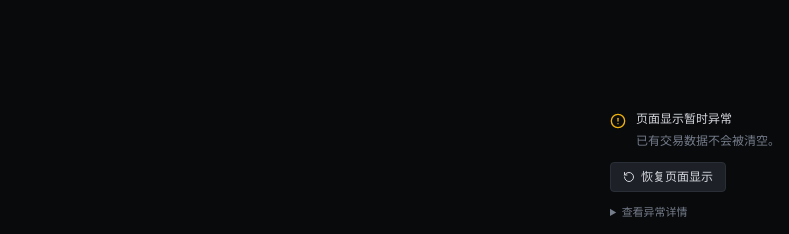
Test: route chunk loading boundary › recovers a runtime display error without mislabelling it as a resource failure or reloading the page
expect the message shows "页面显示暂时异常": met, box [636,111,732,126]
Click the button "恢复页面显示".
click(668, 177)  # box [610,162,726,192]
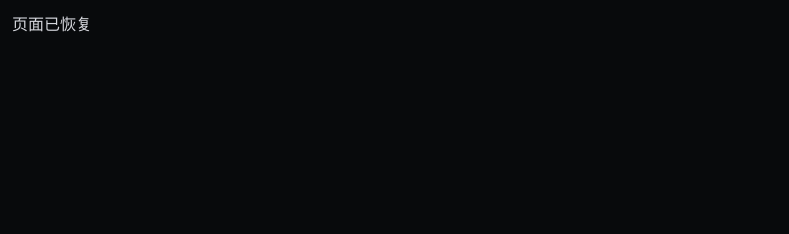
expect the text "页面已恢复" is shown: met, box [12,14,92,34]
